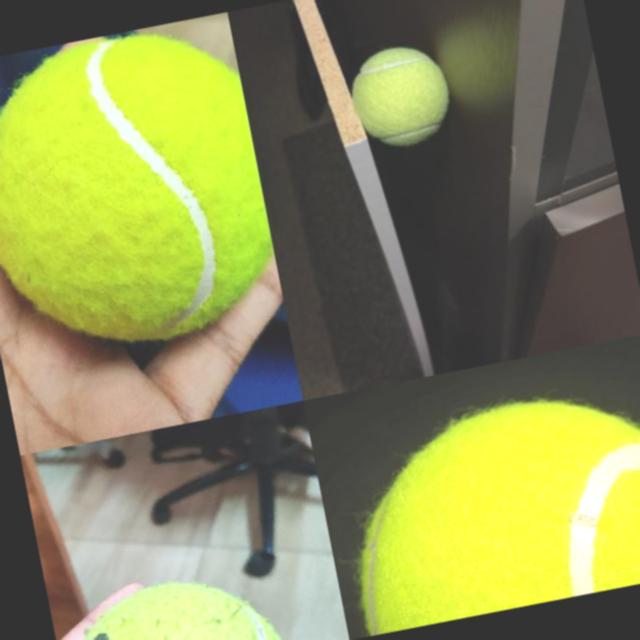tennis-ball: (0, 14, 286, 369), (327, 375, 640, 636), (51, 561, 290, 640), (344, 38, 459, 155)
